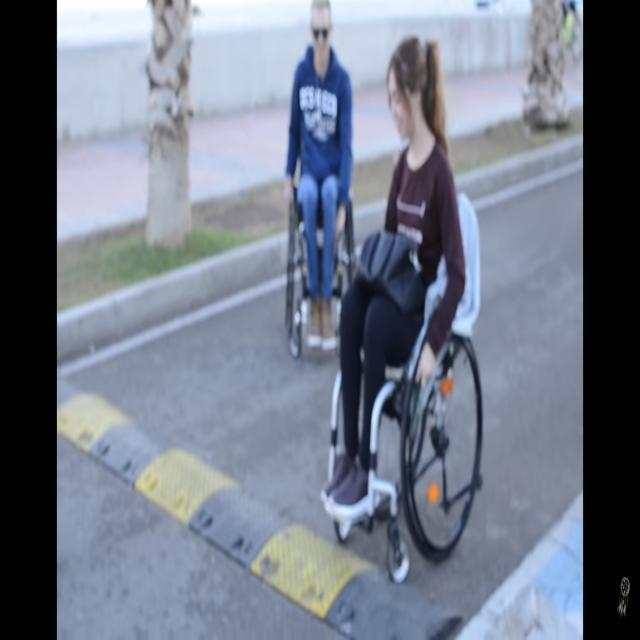wheelchairs: (326, 193, 486, 590), (285, 142, 353, 357)
